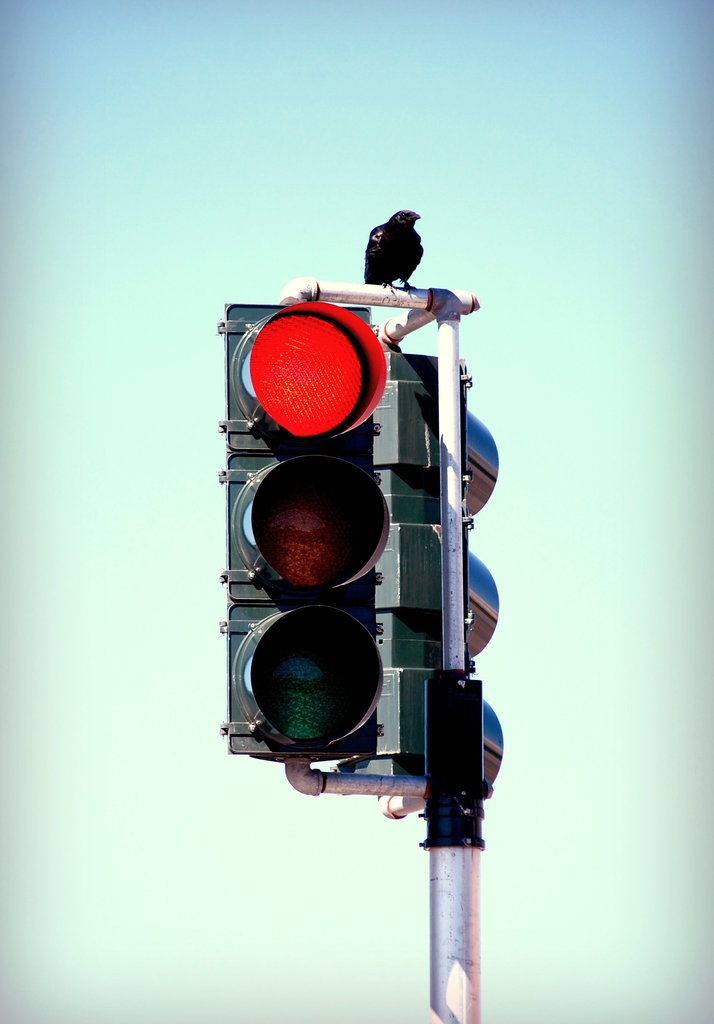red_light: (229, 306, 391, 761)
